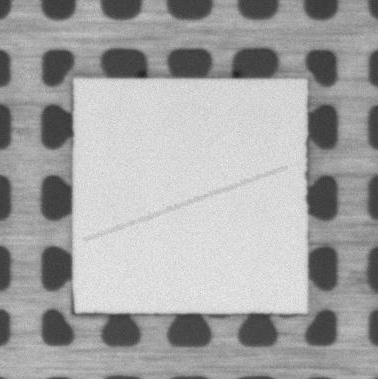DIE_CRACK: (84, 167, 286, 241)
